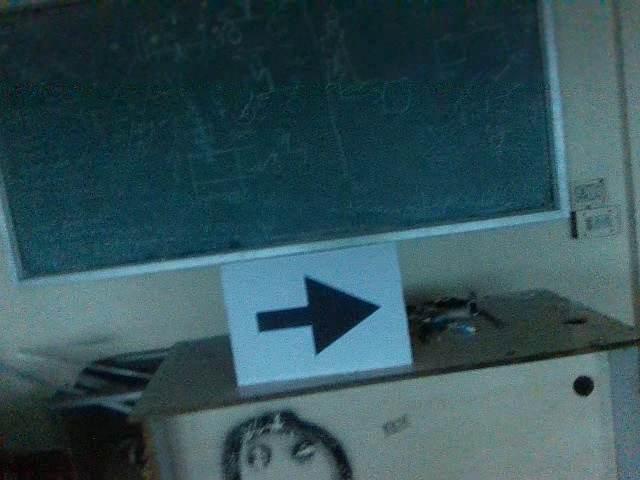Right: (244, 271, 384, 360)
